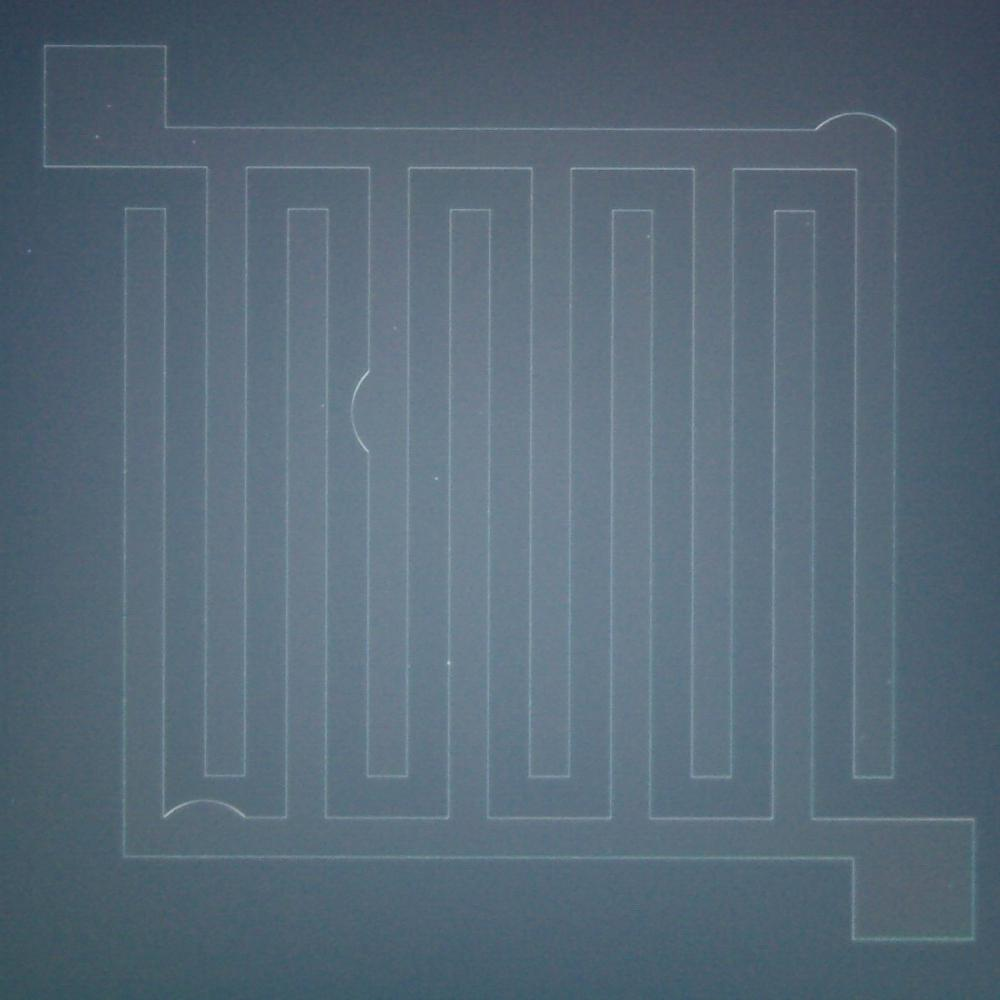dot: (106, 104, 112, 109), (392, 326, 398, 331), (478, 411, 484, 416), (446, 661, 452, 666), (95, 135, 99, 139), (192, 140, 196, 144), (806, 222, 810, 226), (321, 404, 325, 408), (434, 477, 438, 481), (27, 249, 32, 252), (647, 234, 650, 238)
